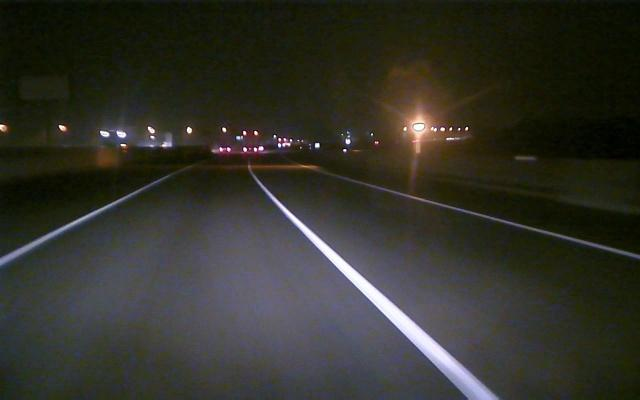lane: (259, 181, 498, 397), (359, 182, 639, 261), (2, 180, 159, 265)
